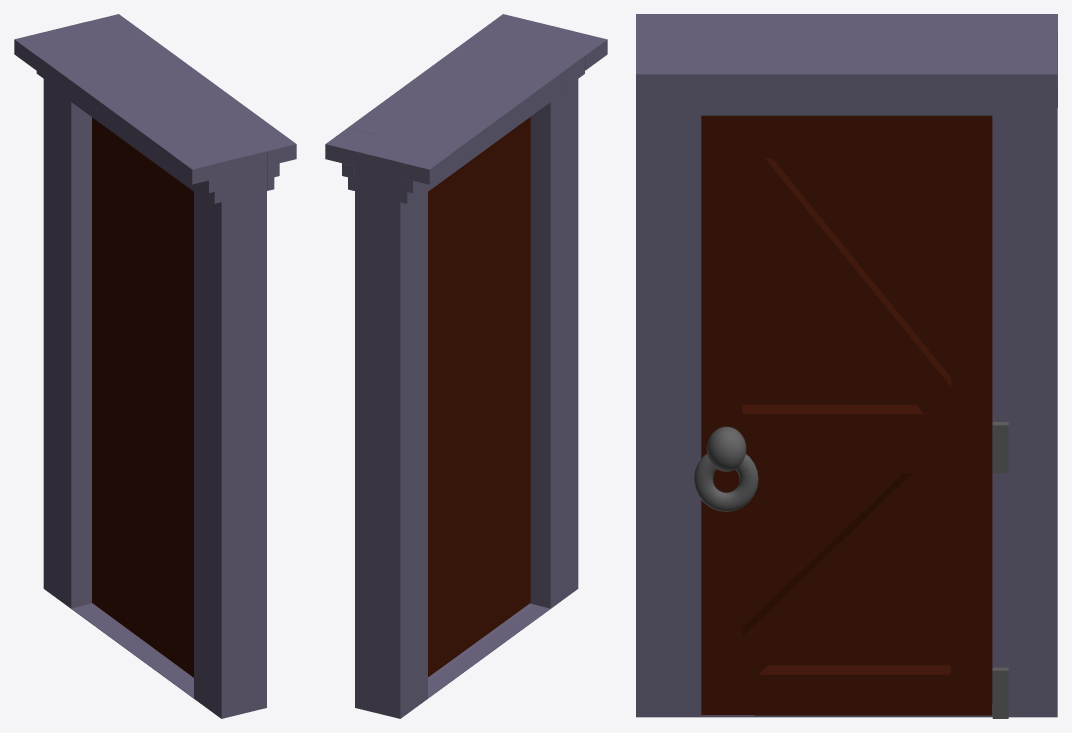
3 views of the same model, side by side, from view 1: azimuth 30°, elevation 25°; view 2: azimuth 150°, elevation 25°; view 3: azimuth 270°, elevation 25° (orthographic). The views are drawn at different scales.
Visible parts, largest first — view 1: Door Frame, Door; view 2: Door Frame, Door; view 3: Door, Door Frame, Box003, Box004.
Boxes of the visible parts, bbox=[...] form: Door Frame: bbox=[14, 14, 296, 718]; Door: bbox=[92, 117, 193, 677]; Door Frame: bbox=[325, 14, 607, 718]; Door: bbox=[428, 117, 530, 677]; Door: bbox=[694, 115, 992, 715]; Door Frame: bbox=[636, 14, 1057, 717]; Box003: bbox=[992, 422, 1008, 473]; Box004: bbox=[992, 667, 1008, 718].
Size of the model in its own units: 11.25 by 57.28 by 33.19.
